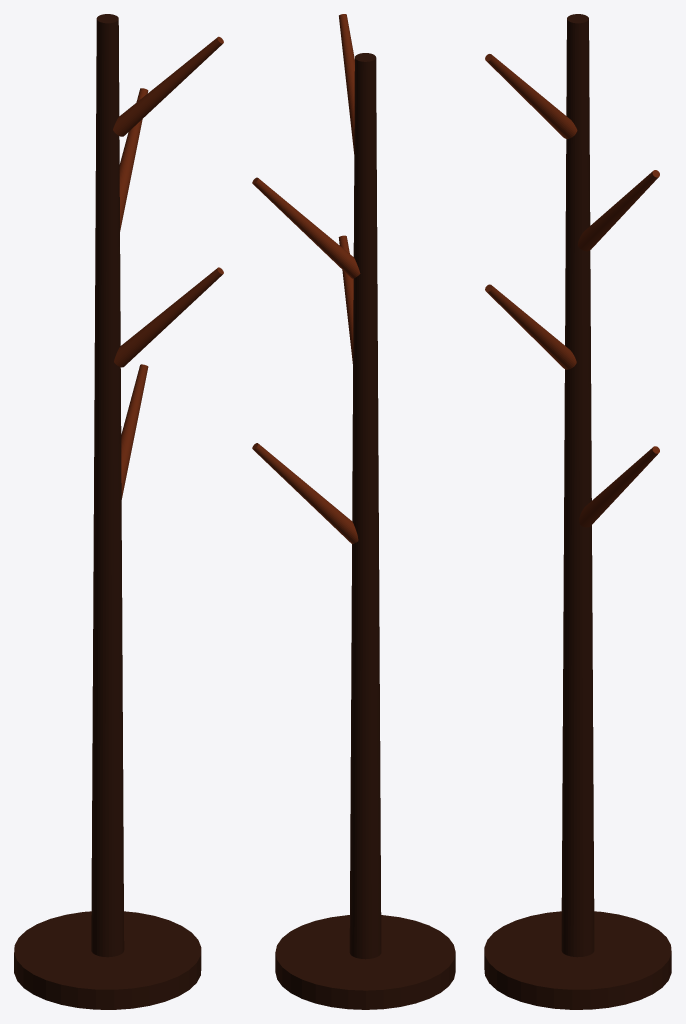
Rendered from hat_stand.obj.
The picture shows the model from 3 angles, left to right: view 1: azimuth 30°, elevation 25°; view 2: azimuth 150°, elevation 25°; view 3: azimuth 270°, elevation 25°; orthographic projection. The views are drawn at different scales.
Parts seen in each view (by area): view 1: stand_rod_Cylinder, stand_base_Cylinder.008, stand_hook_4_Cylinder.007, stand_hook_1_Cylinder.004, stand_hook_2_Cylinder.002, stand_hook_3_Cylinder.006; view 2: stand_rod_Cylinder, stand_base_Cylinder.008, stand_hook_3_Cylinder.006, stand_hook_2_Cylinder.002, stand_hook_4_Cylinder.007, stand_hook_1_Cylinder.004; view 3: stand_rod_Cylinder, stand_base_Cylinder.008, stand_hook_1_Cylinder.004, stand_hook_4_Cylinder.007, stand_hook_3_Cylinder.006, stand_hook_2_Cylinder.002.
Part boxes in pixels (x1,y1,x2,y2): stand_rod_Cylinder: [91, 14, 124, 957]; stand_base_Cylinder.008: [14, 911, 201, 1009]; stand_hook_4_Cylinder.007: [113, 36, 223, 136]; stand_hook_1_Cylinder.004: [114, 267, 223, 367]; stand_hook_2_Cylinder.002: [121, 364, 148, 499]; stand_hook_3_Cylinder.006: [119, 88, 148, 231]; stand_rod_Cylinder: [349, 53, 381, 959]; stand_base_Cylinder.008: [275, 915, 455, 1009]; stand_hook_3_Cylinder.006: [252, 177, 360, 278]; stand_hook_2_Cylinder.002: [252, 443, 358, 543]; stand_hook_4_Cylinder.007: [339, 14, 354, 153]; stand_hook_1_Cylinder.004: [338, 235, 353, 363]; stand_rod_Cylinder: [561, 14, 594, 957]; stand_base_Cylinder.008: [484, 911, 671, 1009]; stand_hook_1_Cylinder.004: [485, 284, 576, 369]; stand_hook_4_Cylinder.007: [485, 54, 577, 138]; stand_hook_3_Cylinder.006: [577, 170, 659, 251]; stand_hook_2_Cylinder.002: [579, 446, 659, 527].
Size of the model in its own units: 0.9068 by 5.08 by 0.9068.
